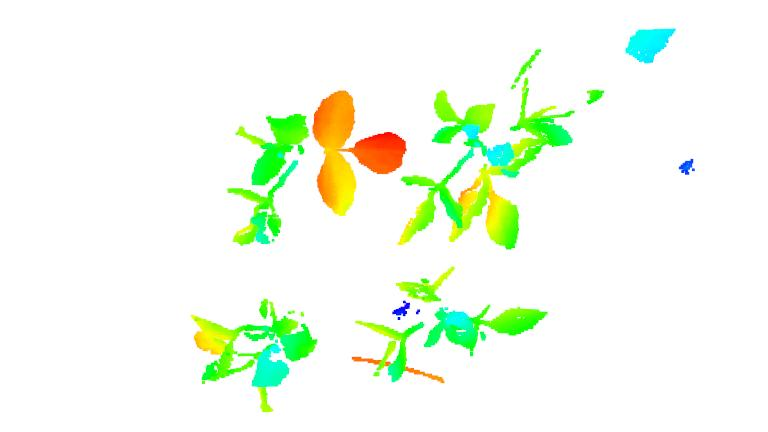mungbean: (229, 86, 410, 249), (396, 84, 572, 247), (353, 269, 552, 382), (190, 301, 318, 399)
